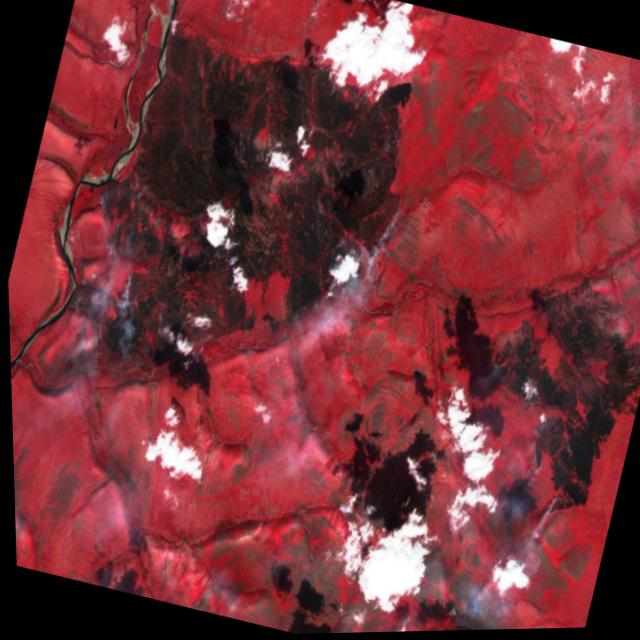fire: (320, 168, 430, 330), (32, 265, 135, 379), (78, 159, 156, 276), (524, 466, 574, 543), (479, 342, 521, 399)
